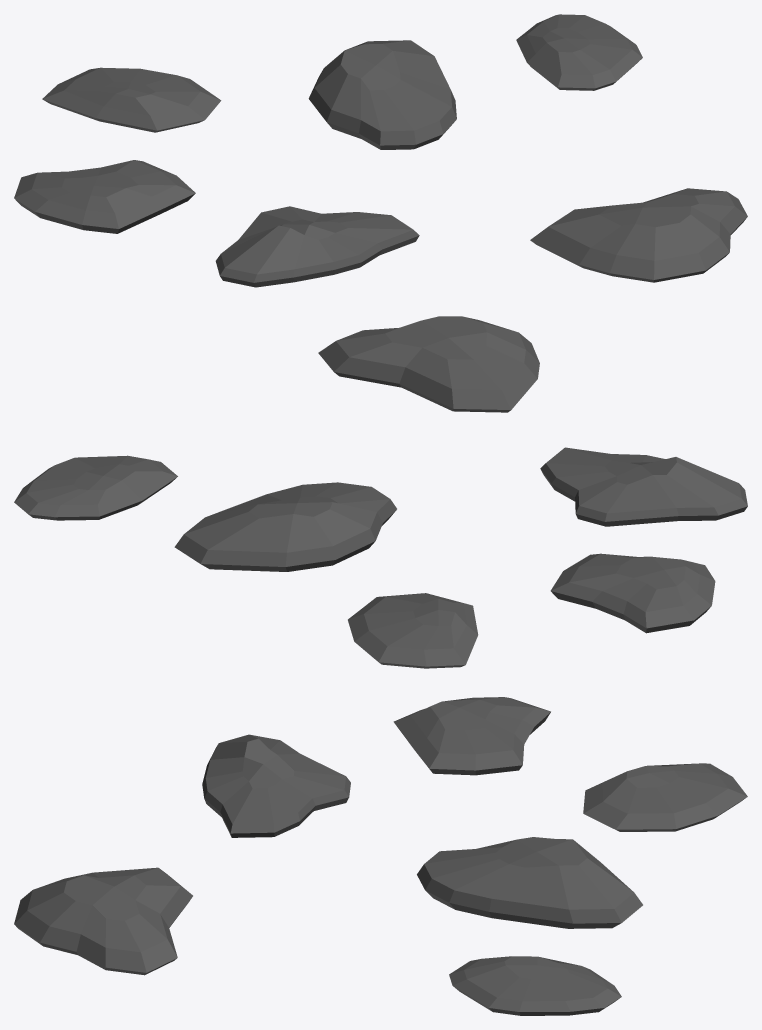
The model's file is palmrock9.glb.
3 renders of one model, top to bottom at view 1: azimuth 30°, elevation 25°; view 2: azimuth 150°, elevation 25°; view 3: azimuth 270°, elevation 25°, orthographic. The views are drawn at different scales.
Visible parts, largest first — view 1: PalmRock10-col; view 2: PalmRock10-col; view 3: PalmRock10-col.
Part boxes in pixels (<box>): PalmRock10-col: <box>14,14,747,287</box>; PalmRock10-col: <box>14,316,747,668</box>; PalmRock10-col: <box>14,697,747,1015</box>.
Bounding box in the file's own units: 1.09 × 0.076 × 1.09.
1 material, 1 textured.
